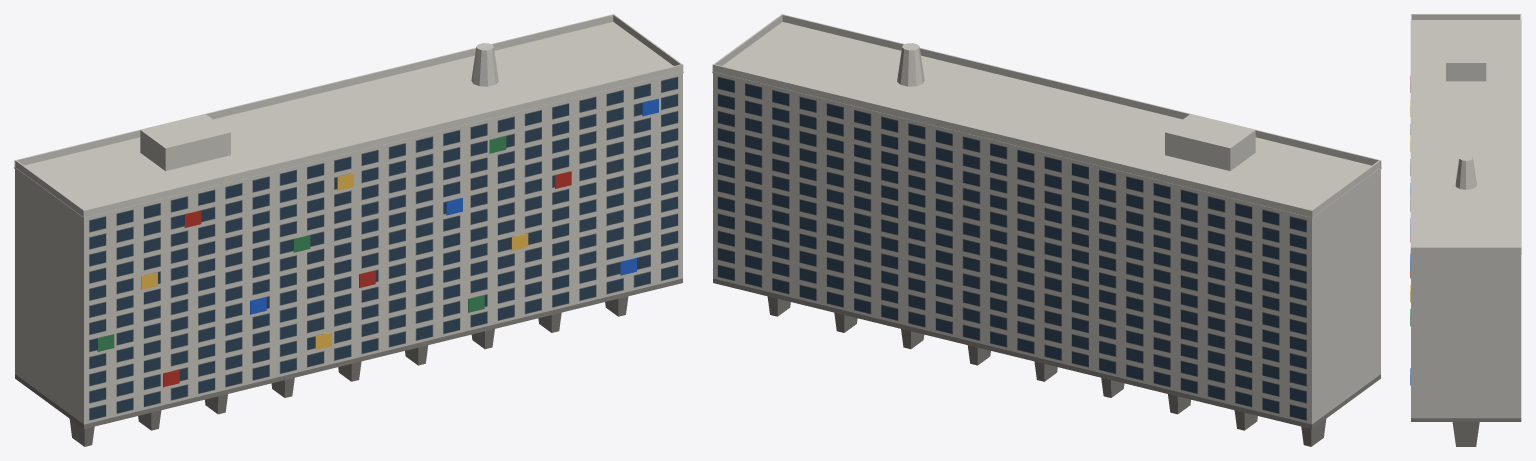
File: unite_habitation.glb
3 views of the same model, side by side, from view 1: azimuth 30°, elevation 25°; view 2: azimuth 150°, elevation 25°; view 3: azimuth 270°, elevation 25° (orthographic). The views are drawn at different scales.
Parts seen in each view (by area): view 1: unite_habitation; view 2: unite_habitation; view 3: unite_habitation.
Part boxes in pixels (bbox=[...]): unite_habitation: bbox=[14, 14, 683, 446]; unite_habitation: bbox=[712, 14, 1381, 446]; unite_habitation: bbox=[1410, 14, 1521, 446].
Size of the model in its own units: 110 by 52 by 22.15.
1 material, 1 textured.
